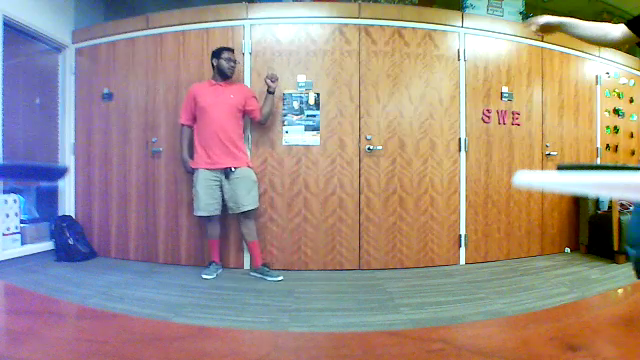up: (260, 62, 281, 96)
